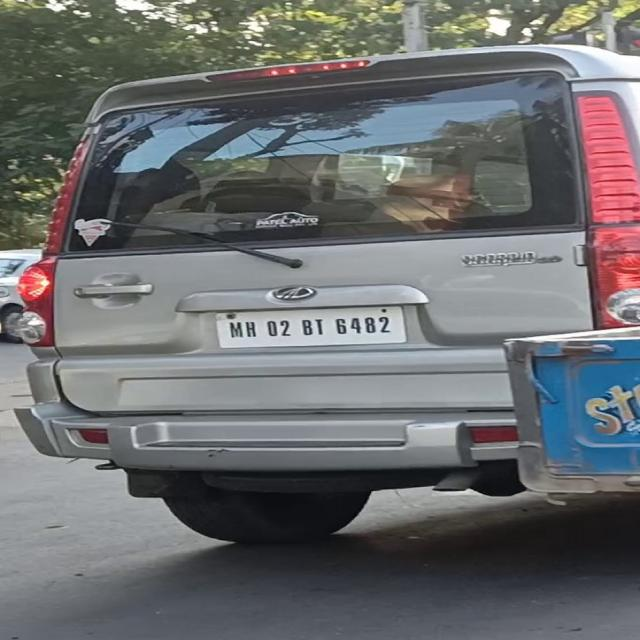Plate: (216, 304, 405, 348)
